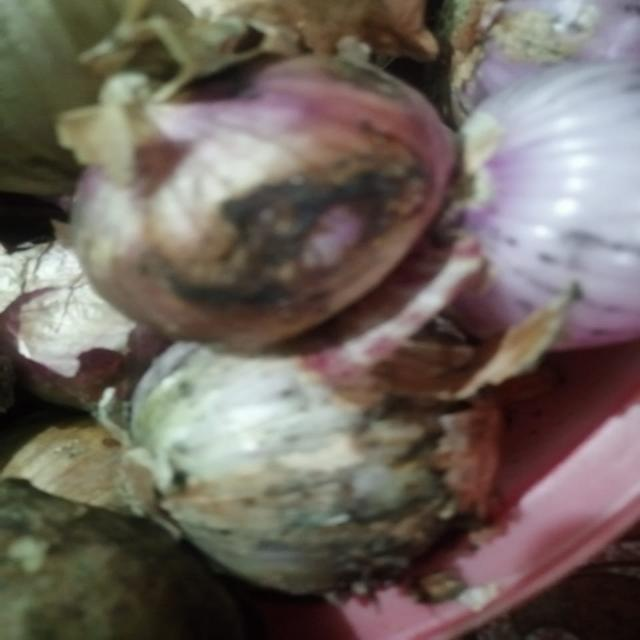rotten: (196, 174, 420, 301), (308, 432, 458, 596)
